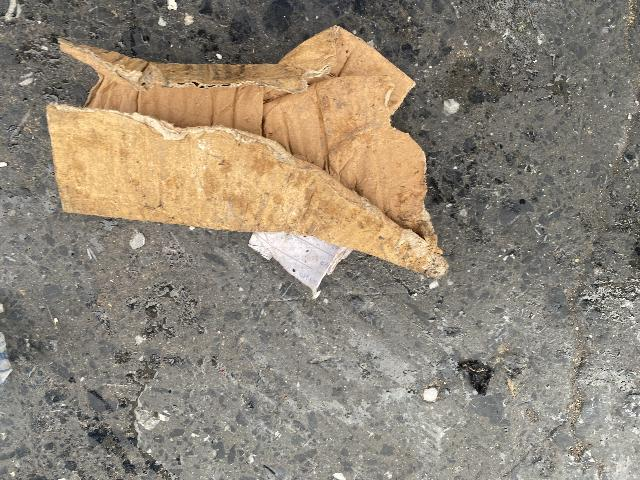Kagit: (45, 26, 451, 279), (248, 234, 356, 301)
